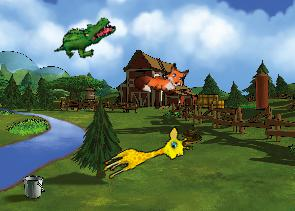crocodile: (52, 4, 118, 72)
fox: (132, 55, 190, 100)
giraffe: (99, 123, 193, 190)
